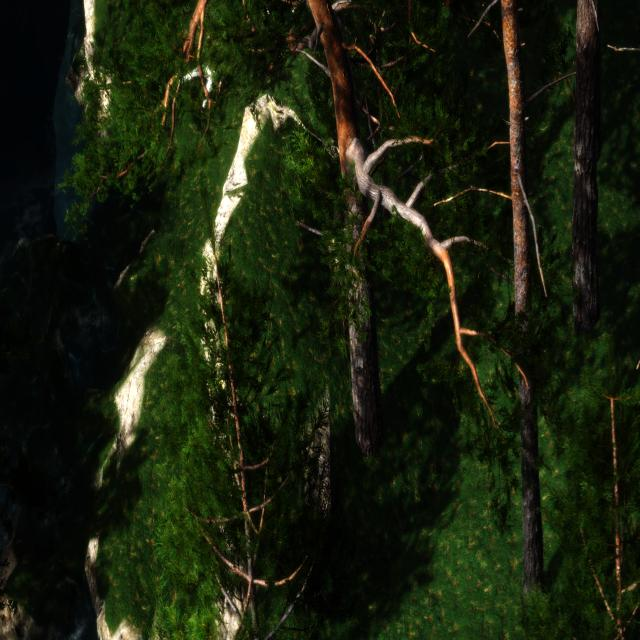Human: (171, 28, 232, 113)
